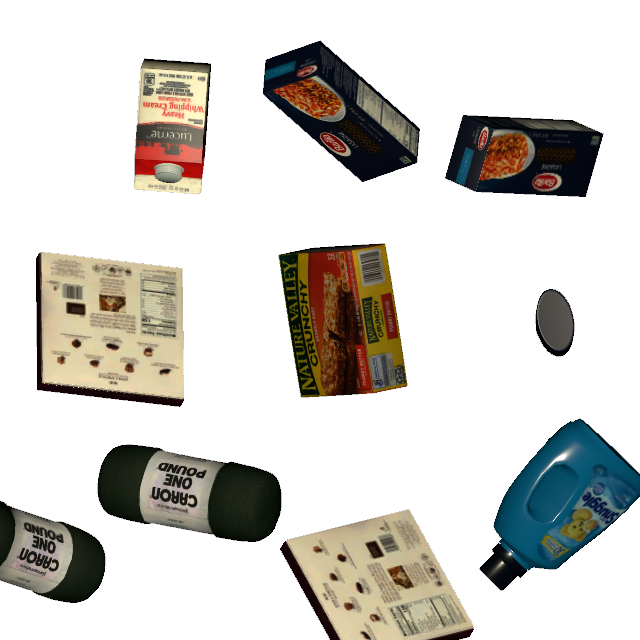candy_minipralines_lindt: (280, 509, 474, 640), (36, 252, 184, 407)
cleaning_snuggle_henkel: (479, 419, 640, 591)
craft_yarn_caron: (98, 444, 282, 542), (0, 501, 106, 603)
drink_whippingcream_lucerne: (134, 59, 211, 194)
lotion_essentially_nivea: (536, 289, 575, 357)
pasta_lasagne_barilla: (263, 41, 420, 182), (445, 115, 603, 197)
snack_granolabar_naturevalley: (278, 243, 408, 398)
